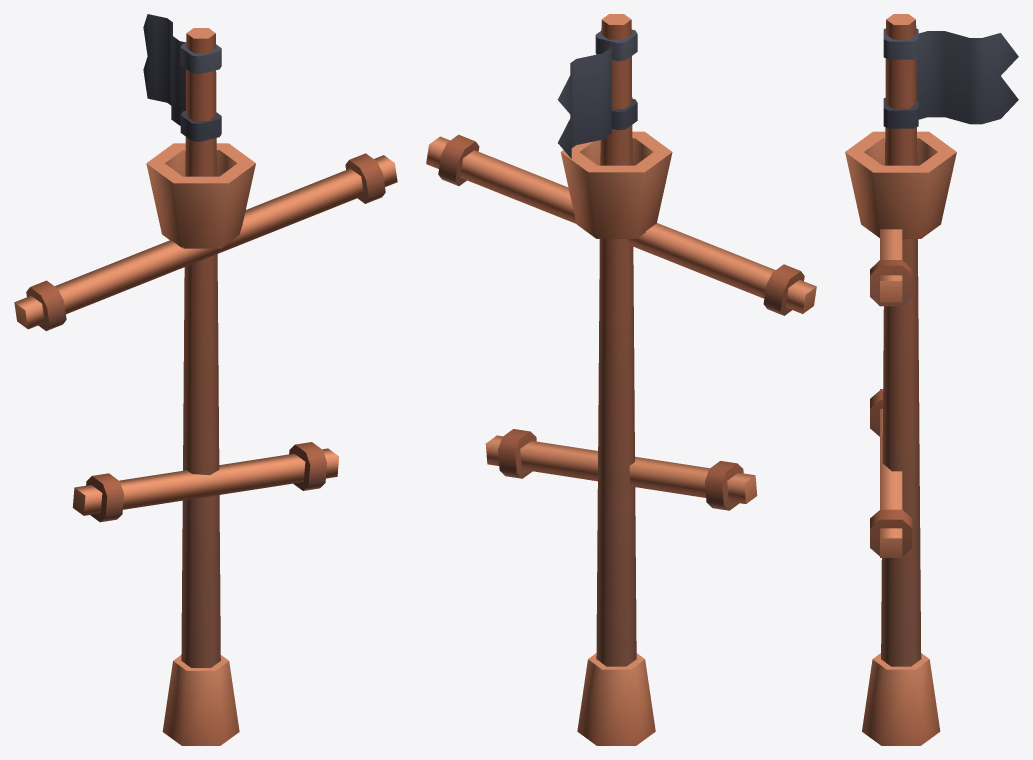
Rendered from kenney-pirate-kit-mast.glb.
3 views of the same model, side by side, from view 1: azimuth 30°, elevation 25°; view 2: azimuth 150°, elevation 25°; view 3: azimuth 270°, elevation 25° (orthographic).
Visible parts, largest first — view 1: mast, sail-a, flag-c; view 2: mast, sail-a, flag-c; view 3: mast, flag-c, sail-a.
Part boxes in pixels (bbox=[...]): mast: bbox=[146, 28, 255, 745]; sail-a: bbox=[14, 153, 397, 522]; flag-c: bbox=[143, 14, 221, 141]; mast: bbox=[560, 14, 672, 745]; sail-a: bbox=[426, 134, 816, 510]; flag-c: bbox=[557, 29, 637, 158]; mast: bbox=[845, 14, 956, 745]; flag-c: bbox=[883, 28, 1018, 128]; sail-a: bbox=[870, 229, 912, 557].
Bounding box in the file's own units: 2.51 × 4.5 × 0.9957.
1 material, 1 textured.
